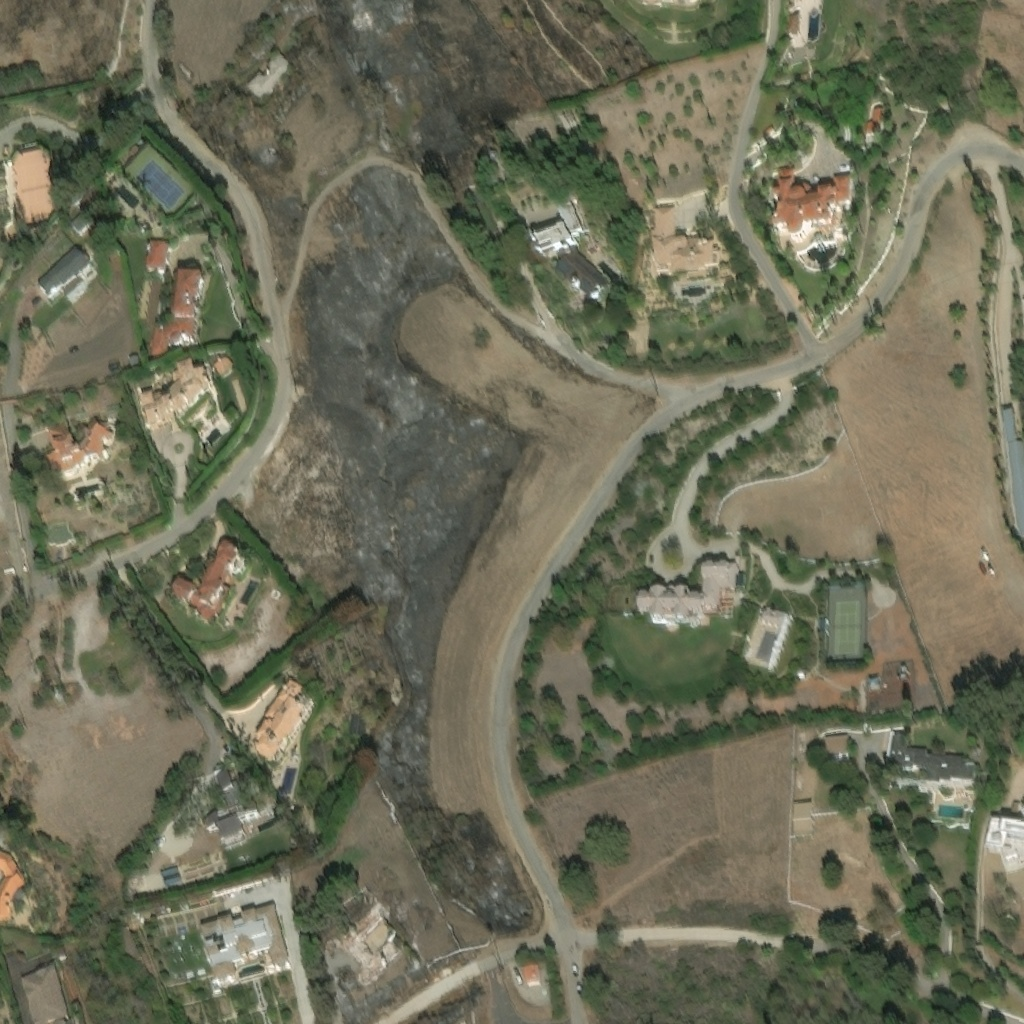0 no-damage: (198, 902, 291, 988), (633, 563, 745, 630), (769, 162, 852, 236), (136, 362, 211, 443), (167, 539, 239, 621), (250, 677, 317, 763), (648, 202, 715, 279), (882, 731, 976, 784), (150, 273, 206, 357), (44, 410, 114, 471), (3, 145, 52, 224), (552, 247, 611, 302), (37, 245, 91, 302), (999, 405, 1023, 533), (528, 198, 579, 256), (20, 965, 70, 1023), (983, 807, 1023, 871), (242, 49, 288, 98), (0, 849, 27, 919), (786, 0, 822, 43), (65, 264, 97, 303), (145, 241, 169, 273), (792, 801, 811, 836), (214, 814, 242, 837), (856, 107, 881, 130), (211, 762, 232, 789), (223, 776, 241, 806), (823, 733, 848, 754), (214, 357, 235, 378), (220, 829, 244, 843), (524, 966, 541, 983), (159, 862, 177, 875), (823, 727, 847, 735), (163, 873, 180, 883), (362, 3, 371, 21), (825, 752, 848, 759), (158, 859, 175, 867), (486, 148, 497, 159), (868, 675, 877, 685)
3 destroyed: (334, 902, 399, 982), (346, 3, 370, 35)
